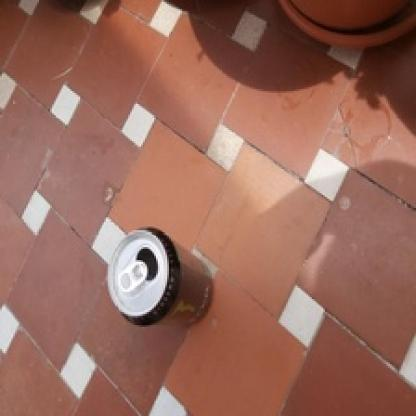Can: (106, 228, 212, 327)
